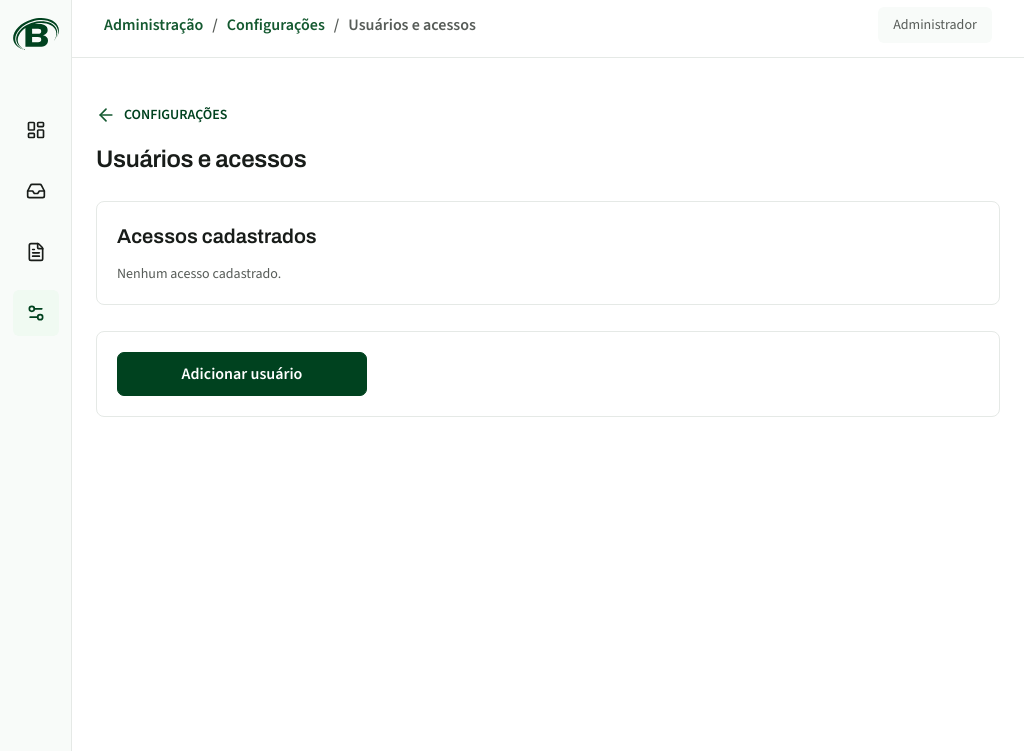
Test: ADM-12 — seletor acessível de perfil › seleciona Administrador e preserva o valor para o formulário
Click the button "Adicionar usuário". click: (242, 374)
box: [117,352,367,396]
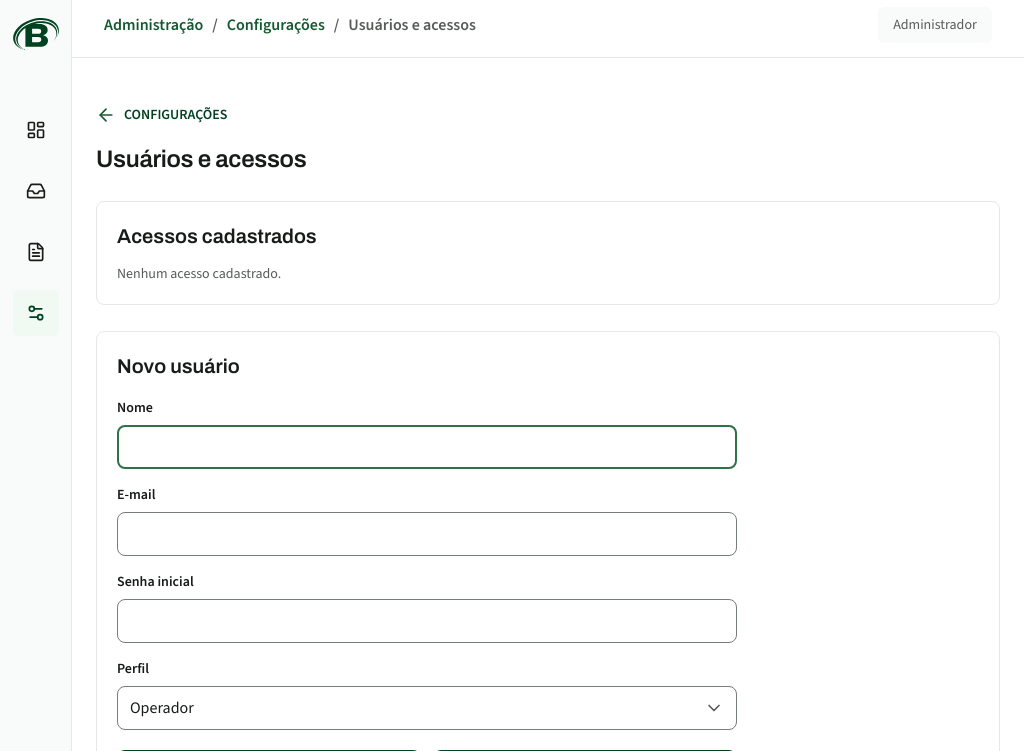
Click the dropdown named "Perfil". click: (162, 708)
box: [117,686,737,730]
(page scrolled)
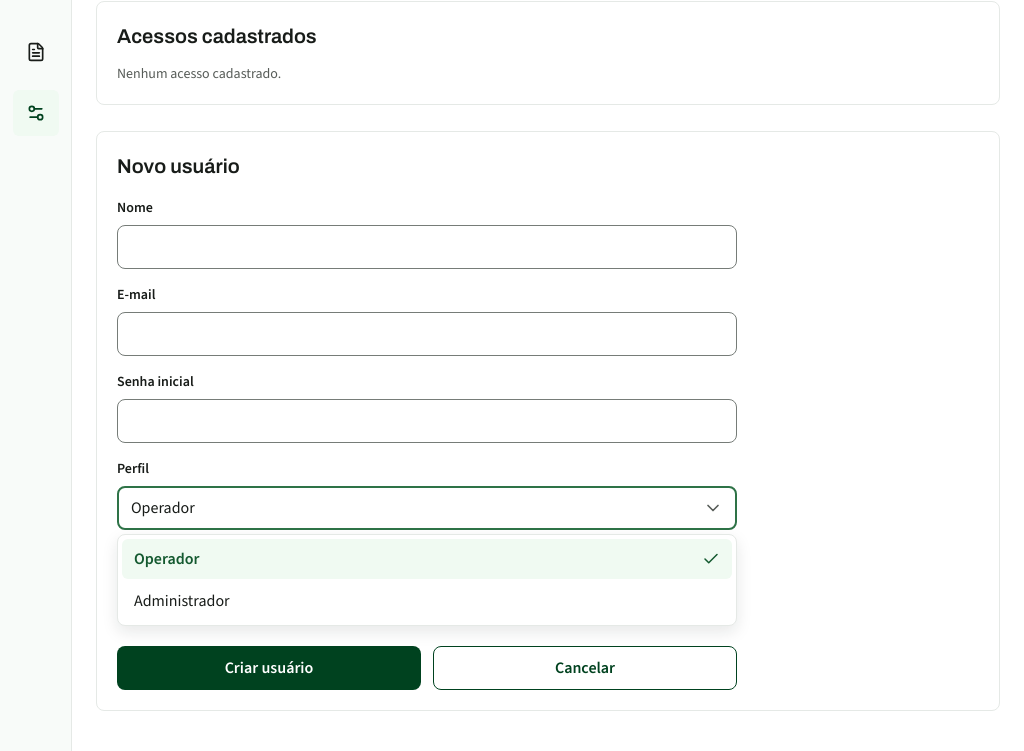
Click the option "Administrador". click: (182, 600)
box: [122,581,732,621]
(page scrolled)
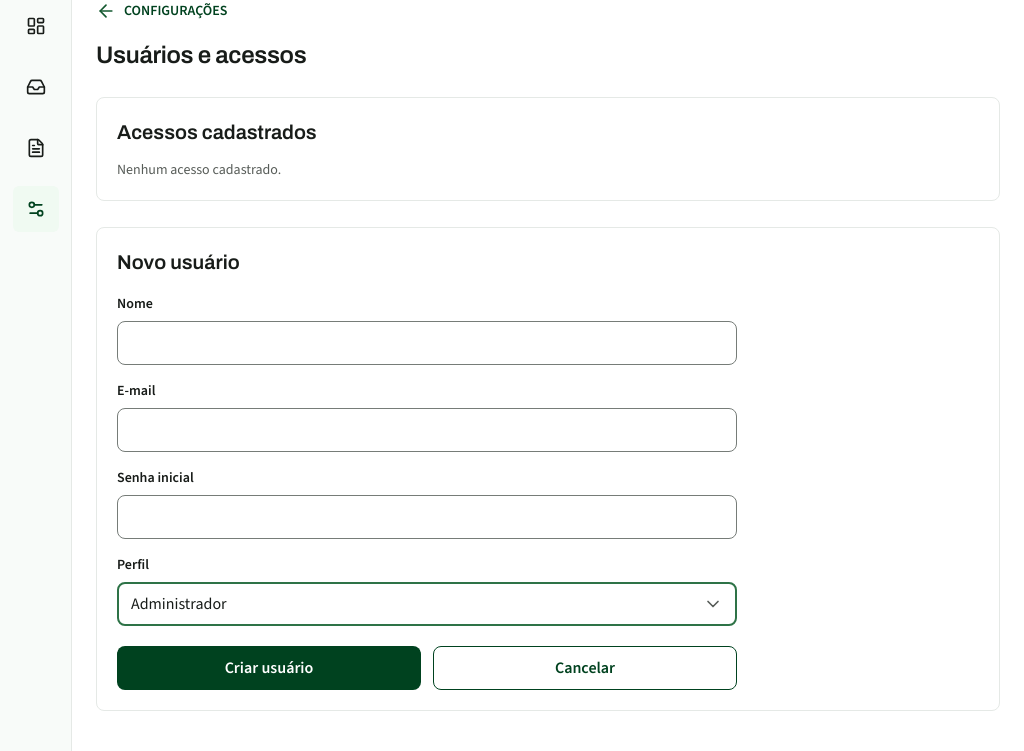
Expected: the element named "role" holds "ADMINISTRATOR", [117,582,737,626]
Expected: the dropdown named "Perfil" reads "Administrador", [117,582,737,626]
Expected: the dropdown named "Perfil" is collapsed, [117,582,737,626]
